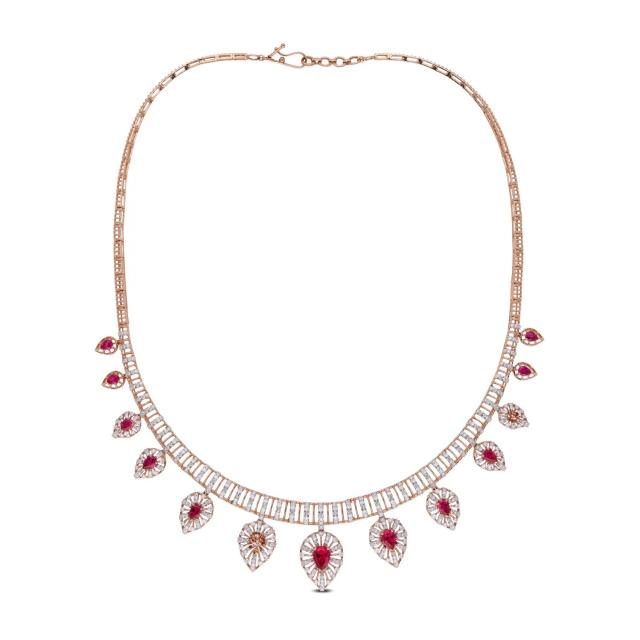missing gem: (249, 534, 265, 555)
